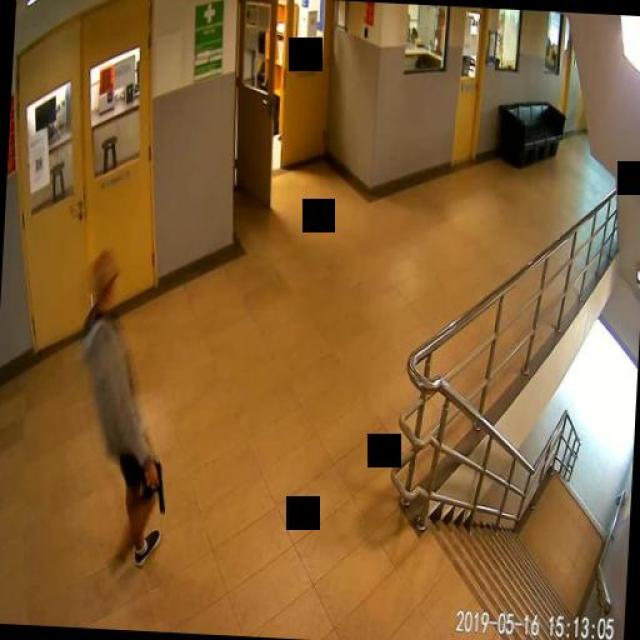gun: (145, 458, 165, 512)
